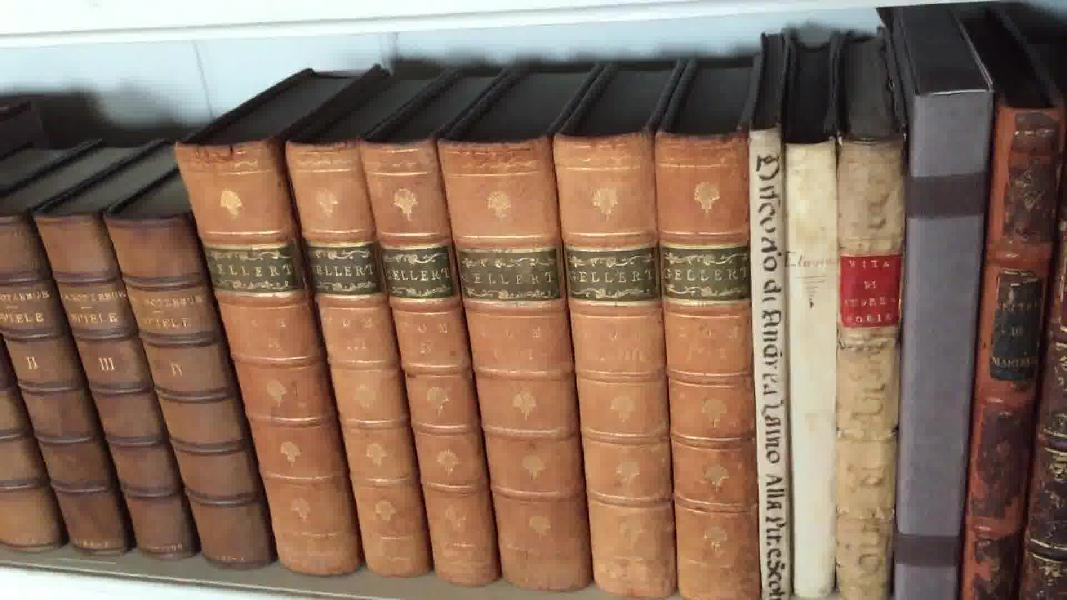Aa6-18_23: (156, 127, 762, 600)
Aa6-24: (738, 128, 792, 600)
Aa6-25: (782, 127, 848, 600)
Aa6-26: (827, 111, 906, 600)
Aa6-27: (894, 79, 987, 600)
Aa6-28: (956, 55, 1060, 600)
